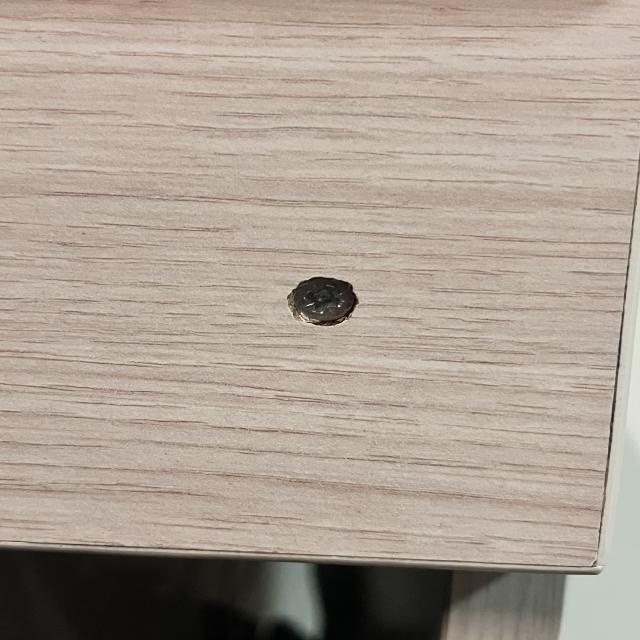pozidriv: (293, 277, 357, 321)
